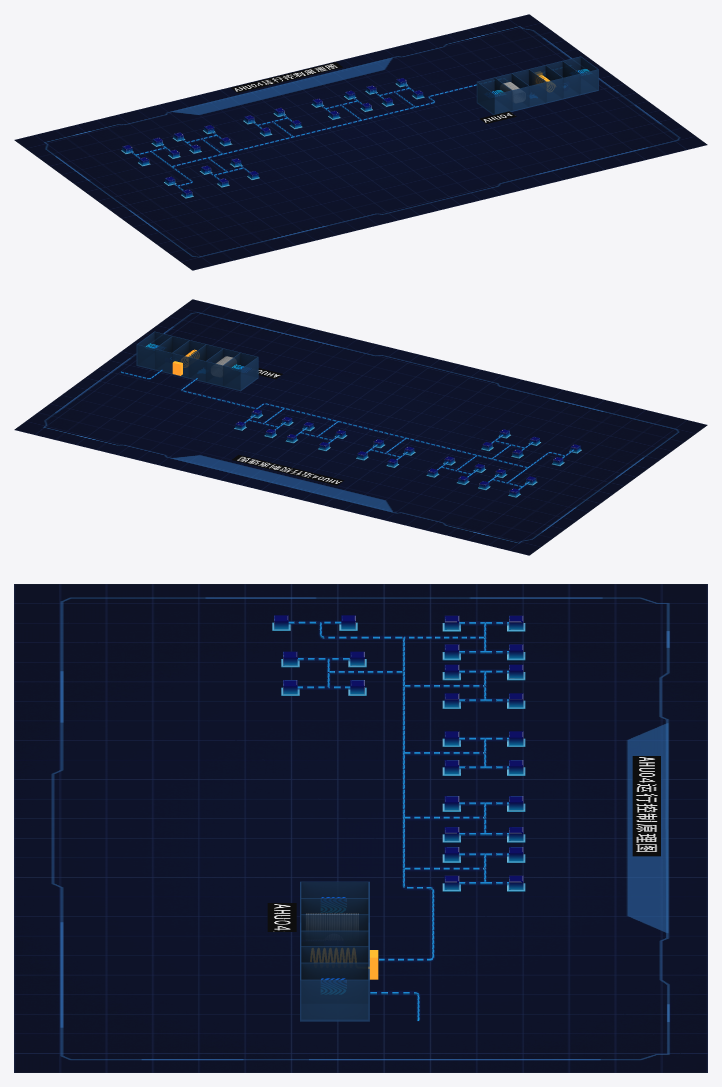
Rendered from AHU04.FBX.
3 views of the same model, one above another, from view 1: azimuth 30°, elevation 25°; view 2: azimuth 150°, elevation 25°; view 3: azimuth 270°, elevation 25° (orthographic). The views are drawn at different scales.
Parts seen in each view (by area): view 1: BG, MAU_Body, Outlet294, AHU04_Pipe, AHU04_Wind, RoomName; view 2: BG, MAU_Body, AHU04_Pipe, Outlet294, AHU04_Wind, RoomName; view 3: BG, MAU_Body, AHU04_Pipe, Outlet294, AHU04_Wind, RoomName.
Boxes of the visible parts, x1,y1,x2,y2 form: BG: [14, 14, 707, 270]; MAU_Body: [476, 56, 598, 114]; Outlet294: [121, 78, 424, 198]; AHU04_Pipe: [129, 83, 476, 190]; AHU04_Wind: [129, 83, 476, 190]; RoomName: [231, 62, 516, 123]; BG: [14, 299, 707, 555]; MAU_Body: [136, 331, 258, 391]; AHU04_Pipe: [121, 369, 573, 489]; Outlet294: [234, 409, 581, 497]; AHU04_Wind: [121, 370, 573, 489]; RoomName: [232, 368, 344, 485]; BG: [14, 584, 707, 1072]; MAU_Body: [300, 881, 369, 1021]; AHU04_Pipe: [289, 621, 508, 1021]; Outlet294: [272, 615, 525, 891]; AHU04_Wind: [288, 621, 508, 1020]; RoomName: [267, 756, 660, 931].
Bounding box in the file's own units: 250 × 14.04 × 150.
